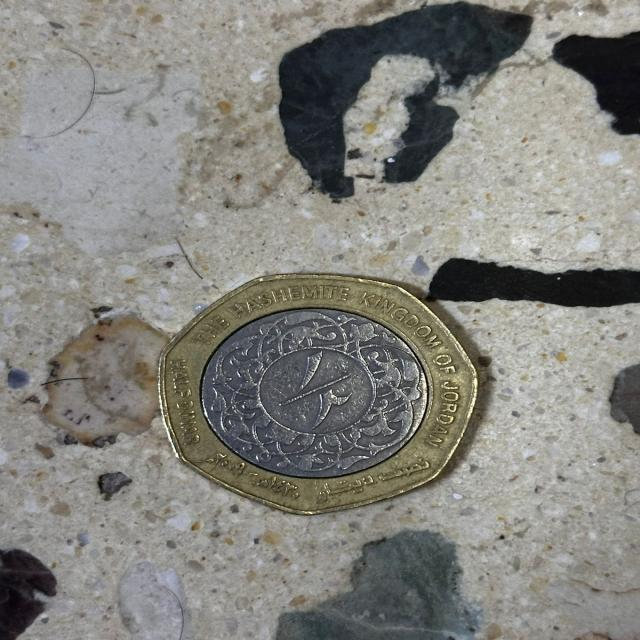50-coins: (160, 273, 480, 516)
